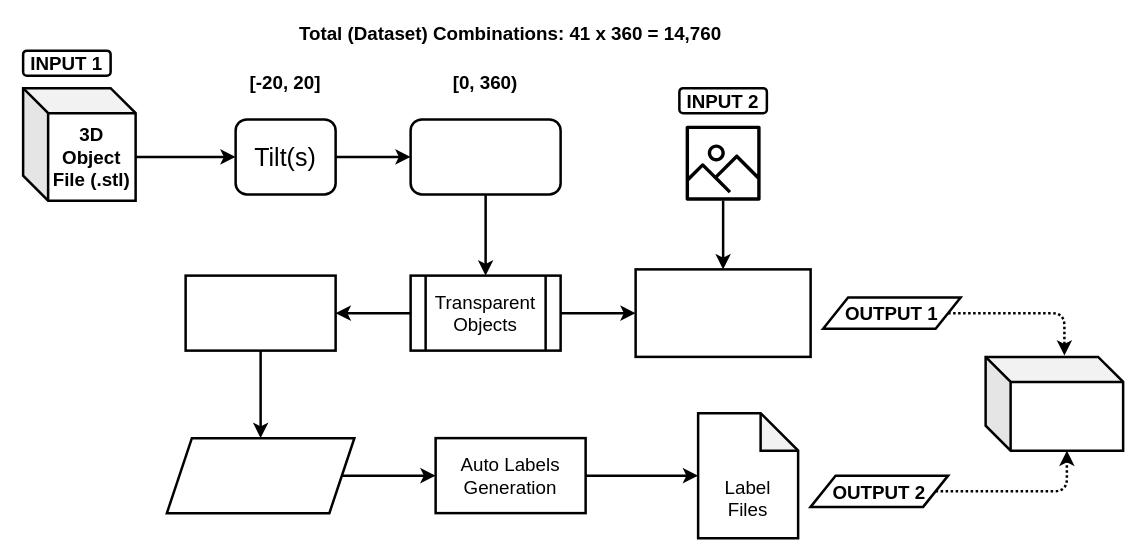
The diagram is 1145 pixels wide and 560 high, and some of its shapes have lost their labels. Each missing label, with the centre of its shape:
"360 Rotation(s)" goes at [485,156].
"Fetch Coordinates" goes at [260,312].
"Format Conversion" goes at [260,475].
"Place on base Satellite Image" goes at [722,313].
"Synthetic Labeled Dataset" goes at [1054,403].
